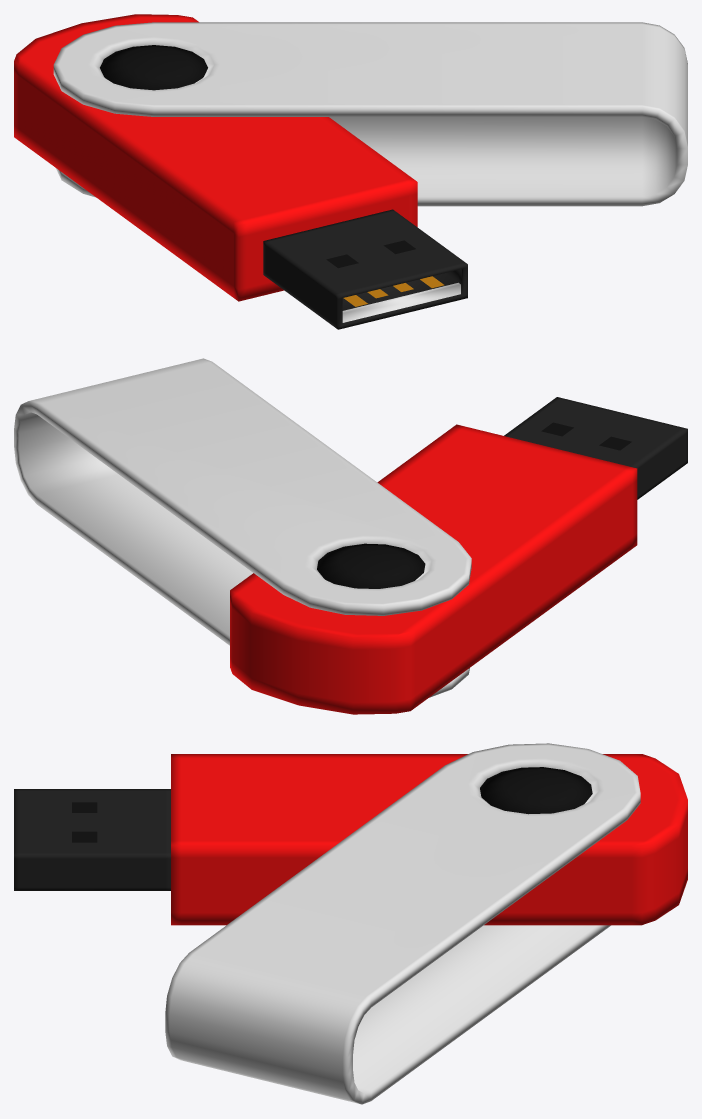
File: pendrive_01.FBX
The picture shows the model from 3 angles, top to bottom: view 1: azimuth 30°, elevation 25°; view 2: azimuth 150°, elevation 25°; view 3: azimuth 270°, elevation 25°; orthographic projection. The views are drawn at different scales.
Visible parts, largest first — view 1: pendrive_clip, pendrive_01; view 2: pendrive_clip, pendrive_01; view 3: pendrive_clip, pendrive_01.
Boxes of the visible parts, x1,y1,x2,y2 form: pendrive_clip: (53,22,687,206); pendrive_01: (14,14,467,329); pendrive_clip: (14,358,471,697); pendrive_01: (230,397,687,714); pendrive_clip: (165,743,640,1104); pendrive_01: (14,754,687,925).
Bounding box in the file's own units: 823 × 169 × 858.
